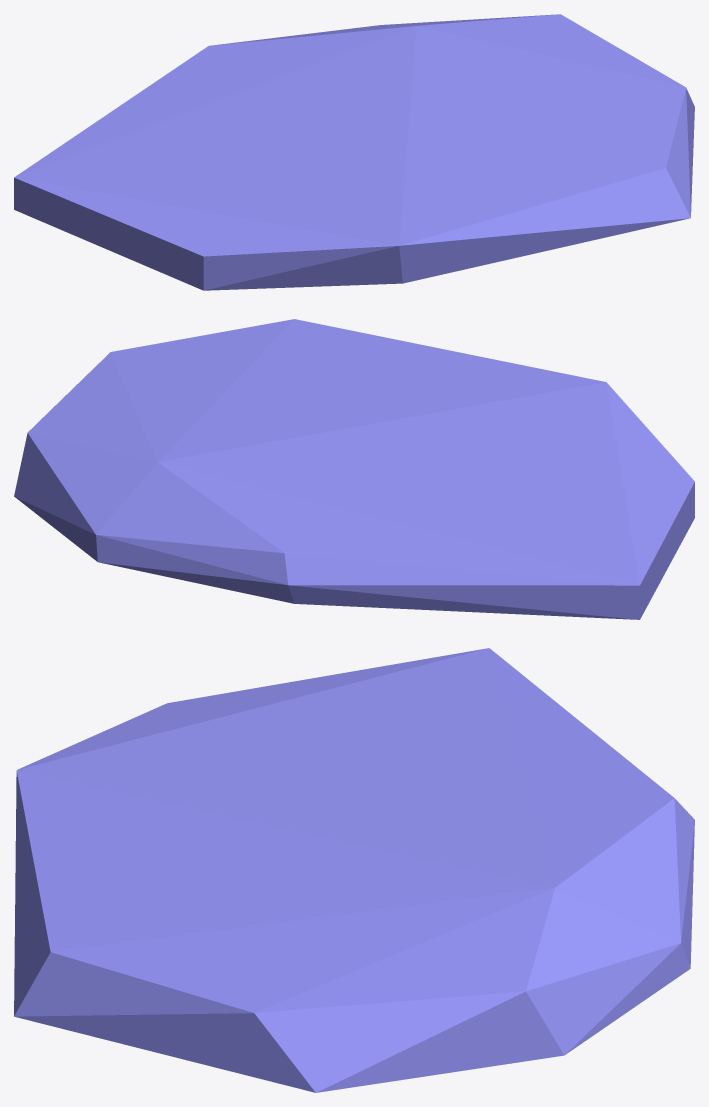
File: Plate_07_Collider_01.FBX
3 views of the same model, one above another, from view 1: azimuth 30°, elevation 25°; view 2: azimuth 150°, elevation 25°; view 3: azimuth 270°, elevation 25° (orthographic). The views are drawn at different scales.
Parts seen in each view (by area): view 1: COLLIDER1; view 2: COLLIDER1; view 3: COLLIDER1.
Part boxes in pixels (x1,y1,x2,y2): COLLIDER1: (14, 14, 694, 290); COLLIDER1: (14, 319, 694, 619); COLLIDER1: (14, 648, 694, 1092).
Size of the model in its own units: 198 by 24.52 by 142.
